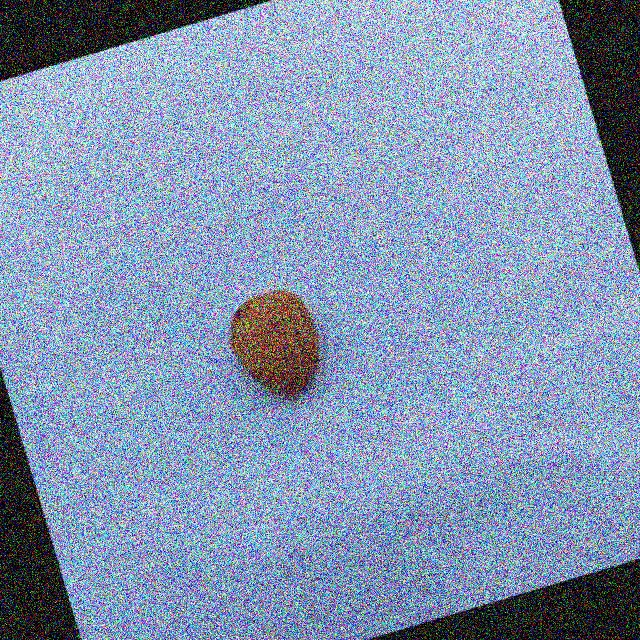grade1: (212, 273, 344, 418)
